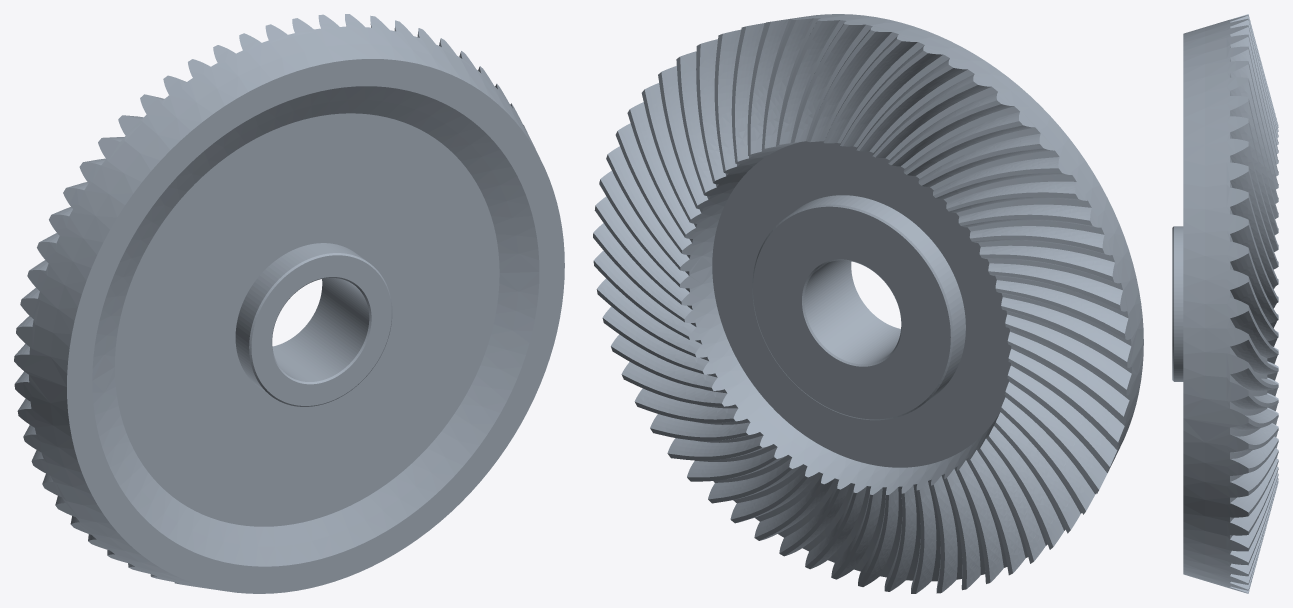
File: reference.glb
3 views of the same model, side by side, from view 1: azimuth 30°, elevation 25°; view 2: azimuth 150°, elevation 25°; view 3: azimuth 270°, elevation 25° (orthographic). The views are drawn at different scales.
Visible parts, largest first — view 1: reference.tmp.stl; view 2: reference.tmp.stl; view 3: reference.tmp.stl.
Part boxes in pixels (<box>): reference.tmp.stl: <box>14,14,564,593</box>; reference.tmp.stl: <box>593,14,1143,593</box>; reference.tmp.stl: <box>1172,14,1278,593</box>.
Bounding box in the file's own units: 535 × 534 × 97.78.
